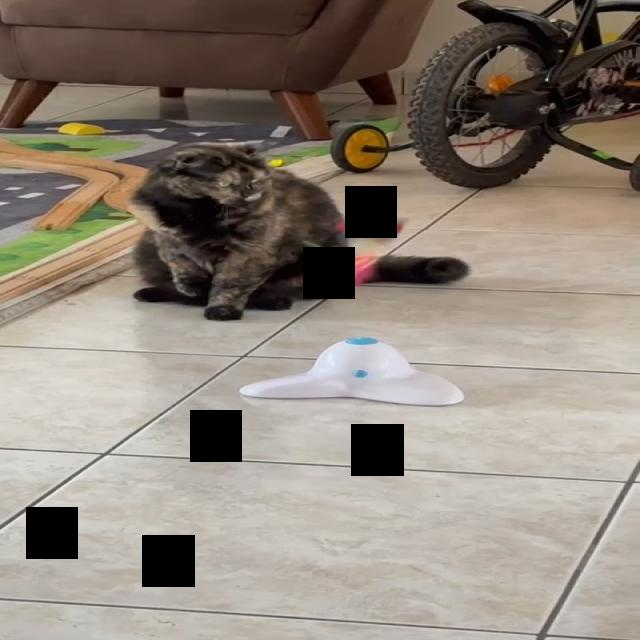authorized: (127, 142, 469, 321)
